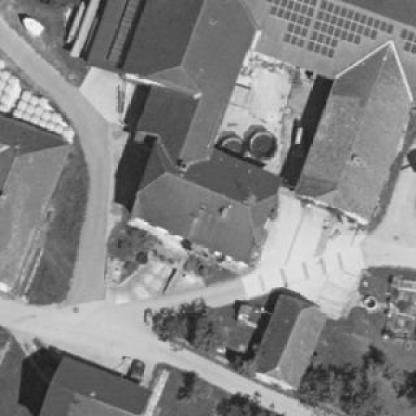solar-pv-panel: (306, 0, 395, 60), (265, 0, 318, 49), (399, 28, 416, 54)
